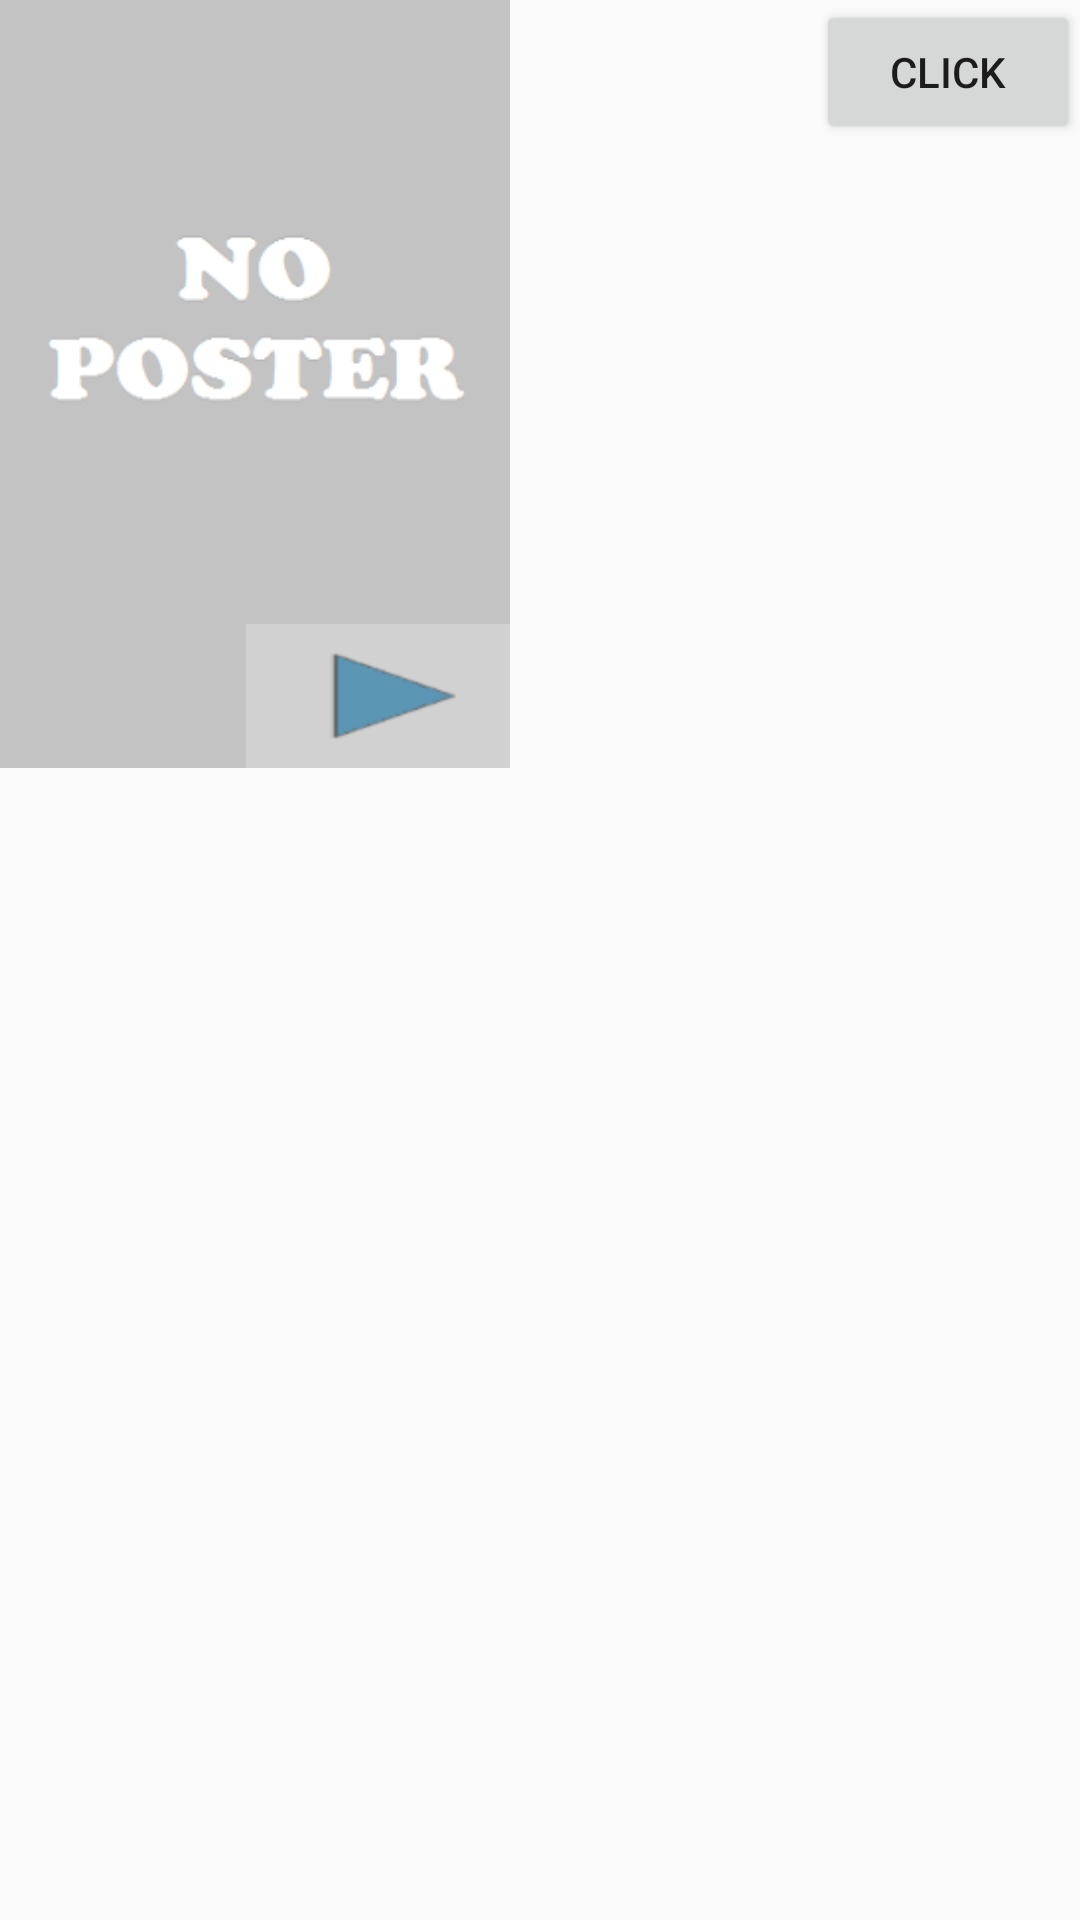

Screen size 1080×1920. Icon name, then its center in pixels as (x,y):
play arrow: (378,696)
